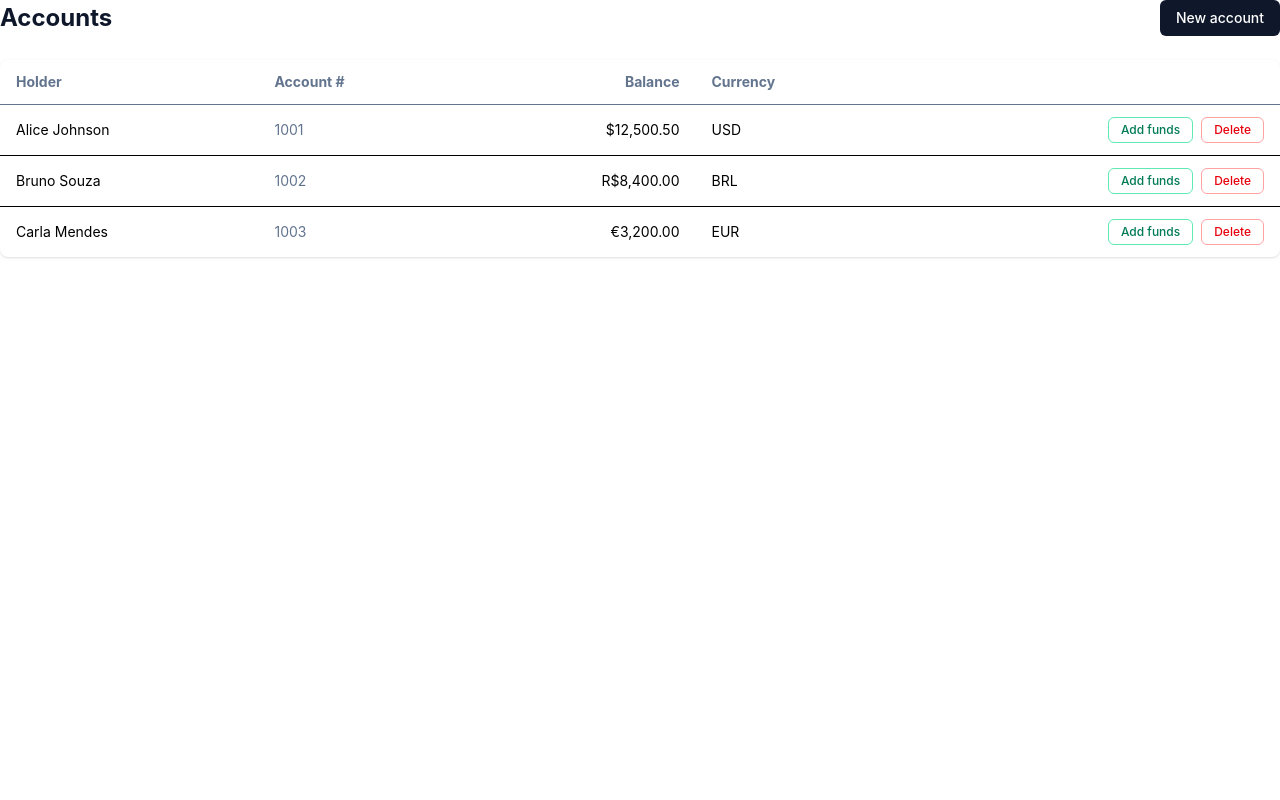
Test case: AccountsPage › deleting an account removes the row
Expected: the text "Alice Johnson" is shown, [0,104,258,156]
Step 1. Click the button "Delete" in the row of "Alice Johnson" → (1233, 130), box [1201,117,1264,143]
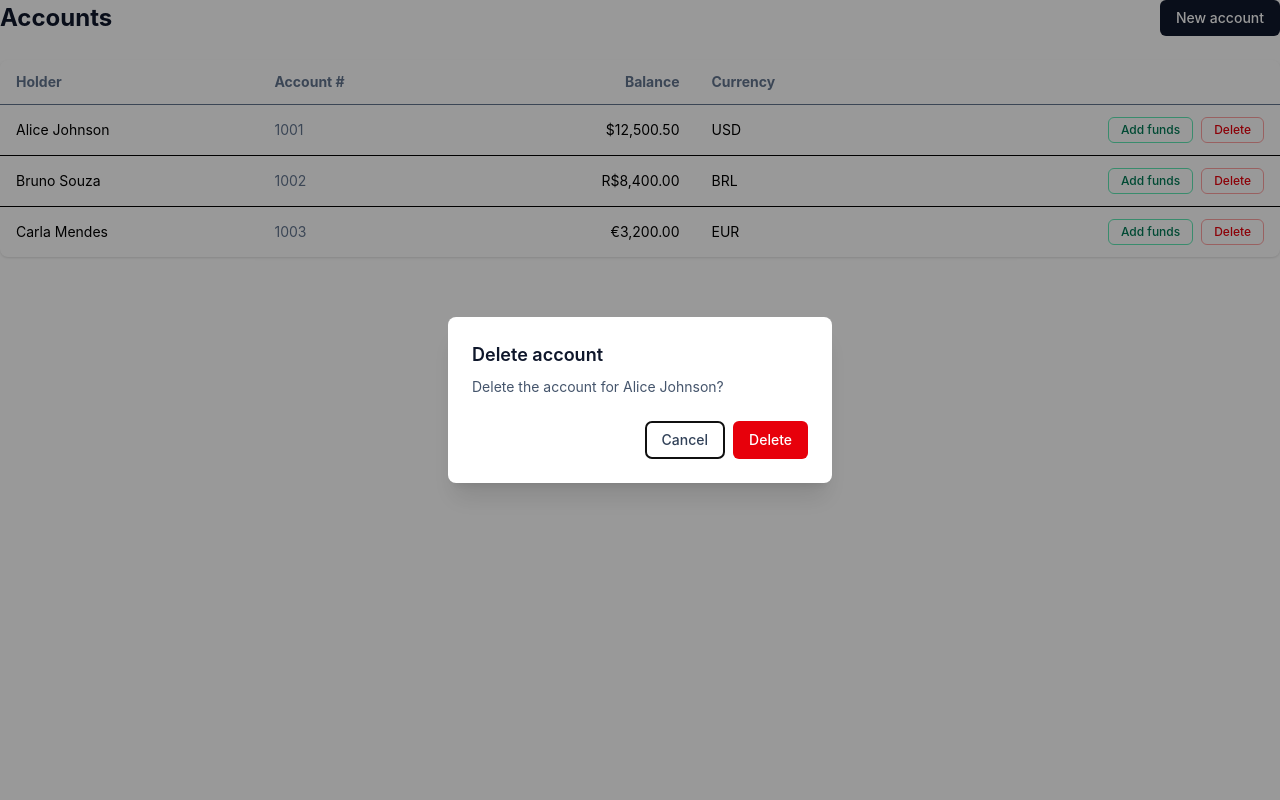
Step 2. Click the button "Delete" → (771, 440), box [733,421,808,459]
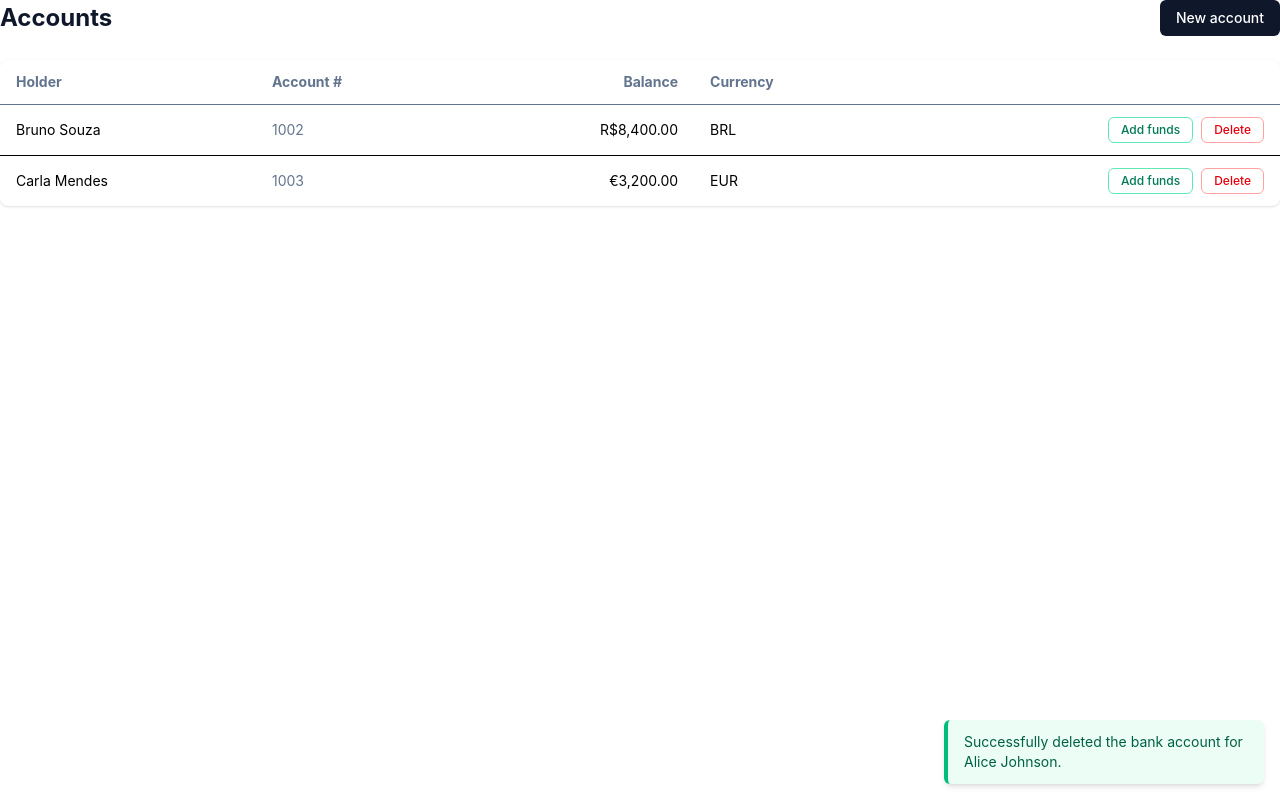
Now the text "Successfully deleted the bank account for Alice Johnson." is shown, box [944,720,1264,784]
